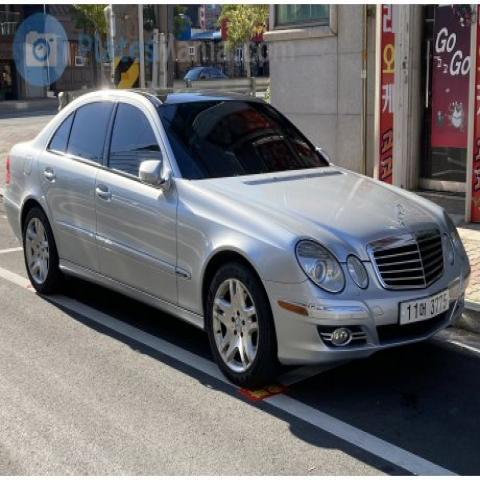LP: (393, 282, 461, 334)
